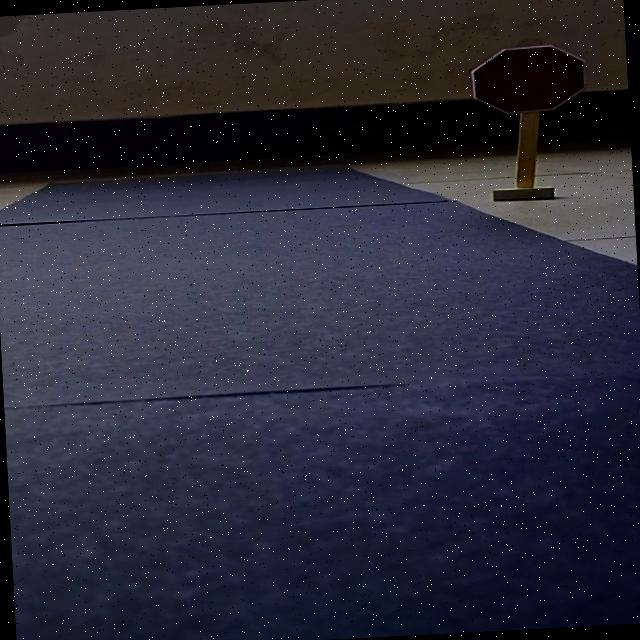Stop: (467, 43, 589, 116)
